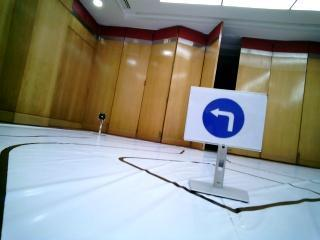left: (190, 91, 258, 146)
